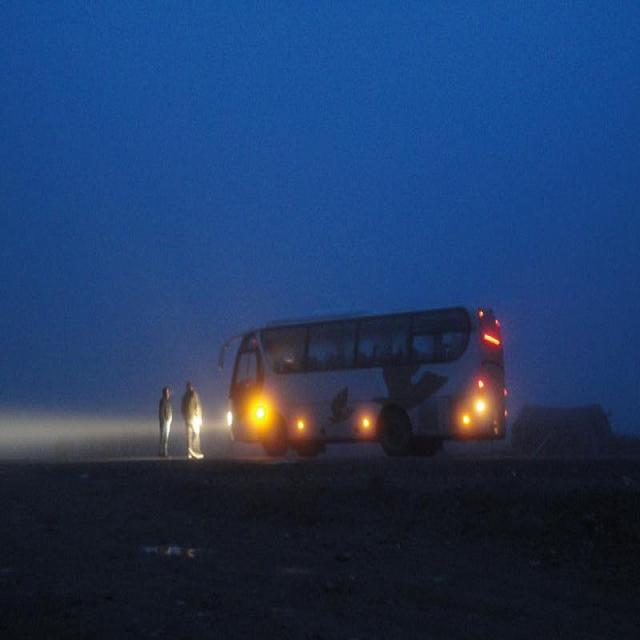Bus: (226, 303, 533, 462)
People: (150, 371, 186, 478), (185, 366, 215, 463)
